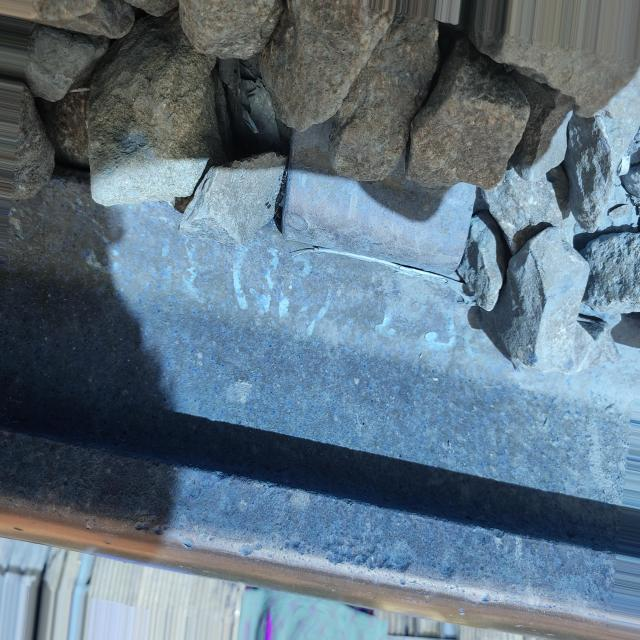Missing Fastener: (282, 166, 475, 277)
